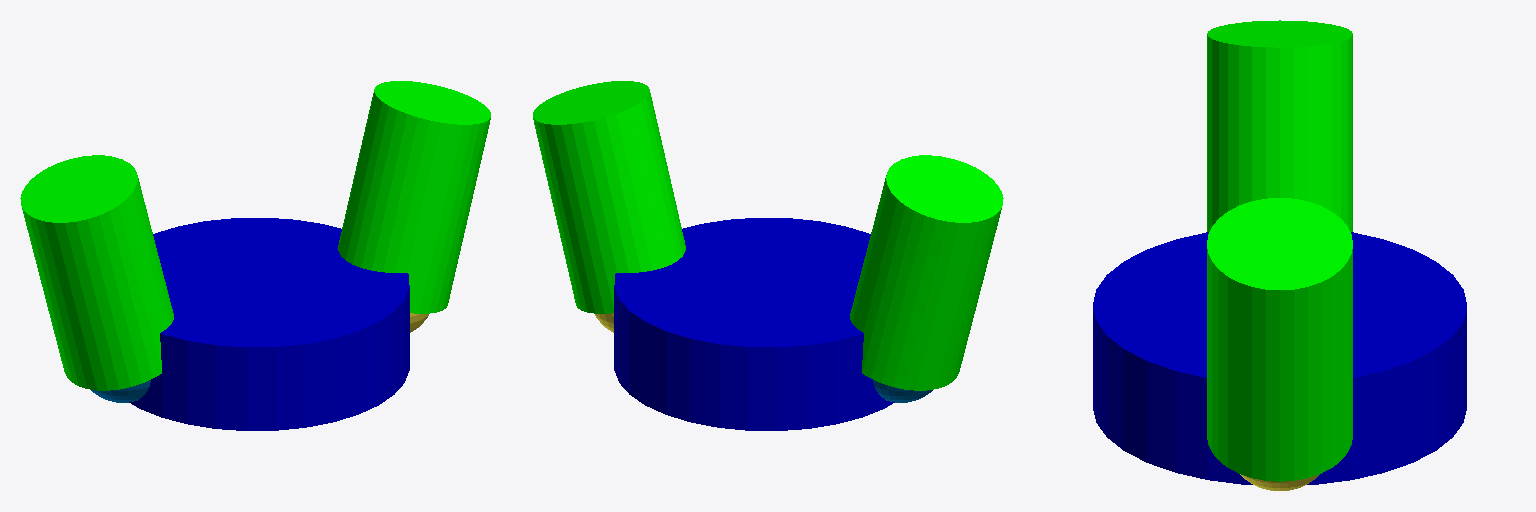
robot.urdf — gripper_2f_1j:
<?xml version='1.0' encoding='UTF-8'?>
<robot name="gripper_2f_1j">
  <link name="palm">
    <inertial>
      <origin xyz="0.0 0.0 0.0" rpy="0.0 -0.0 0.0"/>
      <mass value="1.0"/>
      <inertia ixx="1.0" ixy="0.0" ixz="0.0" iyy="1.0" iyz="0.0" izz="1.0"/>
    </inertial>
    <visual>
      <geometry>
        <cylinder radius="0.05" length="0.03"/>
      </geometry>
      <material name="blue"/>
      <origin xyz="0.0 0.0 0.0" rpy="0.0 -0.0 0.0"/>
    </visual>
    <collision>
      <geometry>
        <cylinder radius="0.05" length="0.03"/>
      </geometry>
      <origin xyz="0.0 0.0 0.0" rpy="0.0 0.0 0.0"/>
    </collision>
  </link>
  <link name="f11">
    <inertial>
      <origin xyz="0.0 0.0 0.0" rpy="0.0 -0.0 0.0"/>
      <mass value="1.0"/>
      <inertia ixx="1.0" ixy="0.0" ixz="0.0" iyy="1.0" iyz="0.0" izz="1.0"/>
    </inertial>
    <visual>
      <geometry>
        <cylinder radius="0.019533973181831442" length="0.06597677972001004"/>
      </geometry>
      <material name="green"/>
      <origin xyz="0.0 0.0 0.03298838986000502" rpy="0.0 -0.0 0.0"/>
    </visual>
    <collision>
      <geometry>
        <cylinder radius="0.019533973181831442" length="0.06597677972001004"/>
      </geometry>
      <origin xyz="0.0 0.0 0.05" rpy="0.0 0.0 0.0"/>
    </collision>
  </link>
  <link name="f21">
    <inertial>
      <origin xyz="0.0 0.0 0.0" rpy="0.0 -0.0 0.0"/>
      <mass value="1.0"/>
      <inertia ixx="1.0" ixy="0.0" ixz="0.0" iyy="1.0" iyz="0.0" izz="1.0"/>
    </inertial>
    <visual>
      <geometry>
        <cylinder radius="0.019533973181831442" length="0.06597677972001004"/>
      </geometry>
      <material name="green"/>
      <origin xyz="0.0 0.0 0.03298838986000502" rpy="0.0 -0.0 0.0"/>
    </visual>
    <collision>
      <geometry>
        <cylinder radius="0.019533973181831442" length="0.06597677972001004"/>
      </geometry>
      <origin xyz="0.0 0.0 0.05" rpy="0.0 0.0 0.0"/>
    </collision>
  </link>
  <link name="f11_base">
    <inertial>
      <origin xyz="0.0 0.0 0.0" rpy="0.0 -0.0 0.0"/>
      <mass value="1.0"/>
      <inertia ixx="1.0" ixy="0.0" ixz="0.0" iyy="1.0" iyz="0.0" izz="1.0"/>
    </inertial>
    <visual>
      <geometry>
        <sphere radius="0.015"/>
      </geometry>
      <origin xyz="0.0 0.0 0.0" rpy="0.0 -0.0 0.0"/>
    </visual>
  </link>
  <link name="f21_base">
    <inertial>
      <origin xyz="0.0 0.0 0.0" rpy="0.0 -0.0 0.0"/>
      <mass value="1.0"/>
      <inertia ixx="1.0" ixy="0.0" ixz="0.0" iyy="1.0" iyz="0.0" izz="1.0"/>
    </inertial>
    <visual>
      <geometry>
        <sphere radius="0.015"/>
      </geometry>
      <origin xyz="0.0 0.0 0.0" rpy="0.0 -0.0 0.0"/>
    </visual>
  </link>
  <joint name="f11_joint" type="revolute">
    <dynamics damping="100.0" friction="1.0"/>
    <limit effort="30.0" velocity="2.0" lower="-0.6" upper="0.25"/>
    <parent link="f11_base"/>
    <child link="f11"/>
    <axis xyz="0. 1. 0."/>
    <origin xyz="0.0 0.0 0.0" rpy="0.0 0.25 0.0"/>
  </joint>
  <joint name="f21_joint" type="revolute">
    <dynamics damping="100.0" friction="1.0"/>
    <limit effort="30.0" velocity="2.0" lower="-0.6" upper="0.25"/>
    <parent link="f21_base"/>
    <child link="f21"/>
    <axis xyz=" 0. -1.  0."/>
    <origin xyz="0.0 0.0 0.0" rpy="0.0 -0.25 0.0"/>
  </joint>
  <joint name="f11_base_joint" type="fixed">
    <parent link="palm"/>
    <child link="f11_base"/>
    <axis xyz="1. 0. 0."/>
    <origin xyz="0.05 0.0 0.0" rpy="0.0 0.0 0.0"/>
  </joint>
  <joint name="f21_base_joint" type="fixed">
    <parent link="palm"/>
    <child link="f21_base"/>
    <axis xyz="1. 0. 0."/>
    <origin xyz="-0.05 -0.0 0.0" rpy="0.0 0.0 0.0"/>
  </joint>
  <material name="blue">
    <color rgba="0.  0.  0.8 1. "/>
  </material>
  <material name="green">
    <color rgba="0. 1. 0. 1."/>
  </material>
</robot>

--- Facts derived from the render (not from the file) ---
Views: 3 orthographic renders of the robot side by side, from view 1: azimuth 30°, elevation 25°; view 2: azimuth 150°, elevation 25°; view 3: azimuth 270°, elevation 25°.
Model gripper_2f_1j with 5 links and 4 joints (2 revolute, 2 fixed), rooted at palm, posed all joints at 0.
Links seen in each view (by area): view 1: palm, f21, f11, f21_base; view 2: palm, f21, f11, f21_base; view 3: palm, f11, f21, f11_base.
Link boxes in pixels (x1,y1,x2,y2): palm: (129, 218, 409, 430); f21: (20, 155, 173, 390); f11: (338, 81, 490, 313); f21_base: (91, 380, 150, 402); palm: (614, 218, 894, 430); f21: (850, 155, 1003, 390); f11: (533, 81, 685, 313); f21_base: (873, 380, 932, 402); palm: (1093, 232, 1466, 484); f11: (1207, 198, 1352, 481); f21: (1207, 20, 1352, 231); f11_base: (1240, 474, 1319, 490).
Size in the robot's own frame: 0.1705 by 0.1 by 0.0838 metres.
Geometry: primitives only (box / cylinder / sphere), no mesh files.